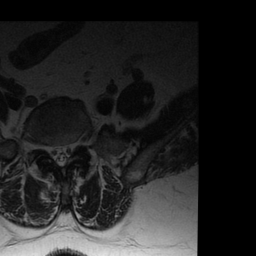CCS_normal: (57, 139, 64, 170)
LFS_stenosis: (72, 134, 79, 154)
LLS_normal: (65, 139, 71, 165)
RFS_stenosis: (40, 138, 48, 156)
RLS_normal: (48, 139, 57, 165)
